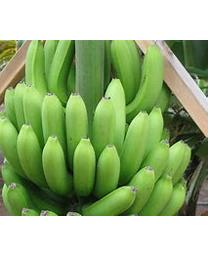banana: (0, 40, 192, 212)
